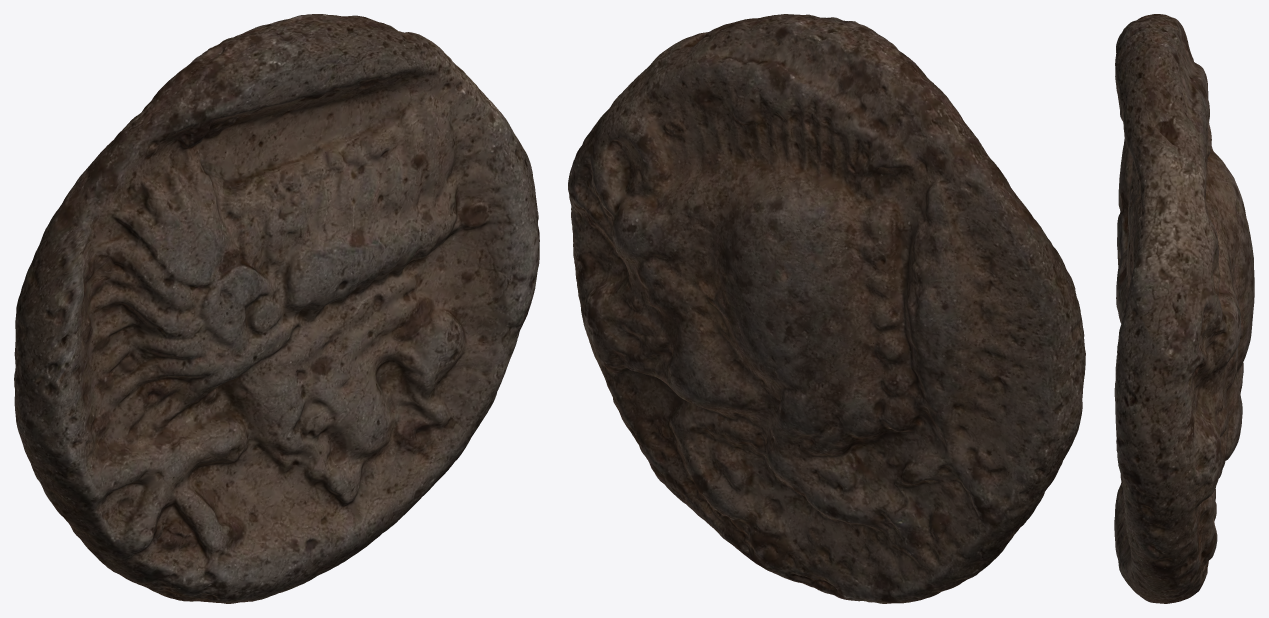
File: lioncoins.glb
The picture shows the model from 3 angles, left to right: view 1: azimuth 30°, elevation 25°; view 2: azimuth 150°, elevation 25°; view 3: azimuth 270°, elevation 25°; orthographic projection.
Parts seen in each view (by area): view 1: Model_material0_0; view 2: Model_material0_0; view 3: Model_material0_0.
Part boxes in pixels (left/top/right/bottom): Model_material0_0: left=14, top=14, right=539, bottom=603; Model_material0_0: left=568, top=14, right=1085, bottom=603; Model_material0_0: left=1114, top=14, right=1254, bottom=603.
Size of the model in its own units: 0.3485 by 0.3684 by 0.0841.
1 material, 1 textured.
